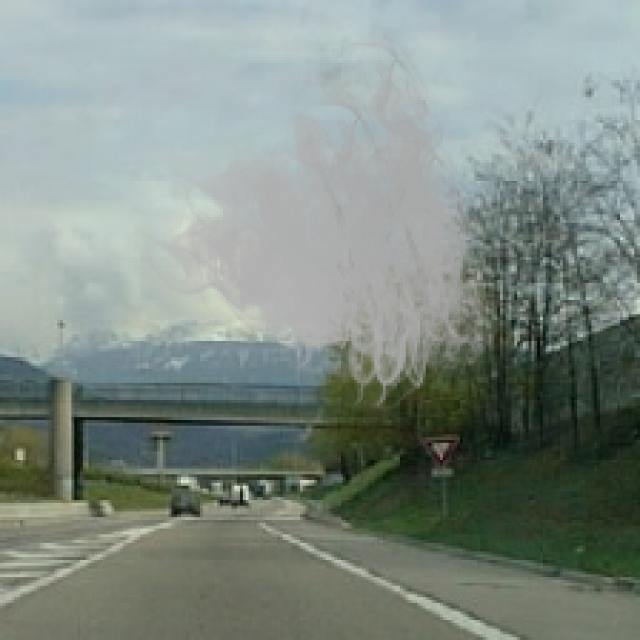smoke: (134, 26, 509, 423)
